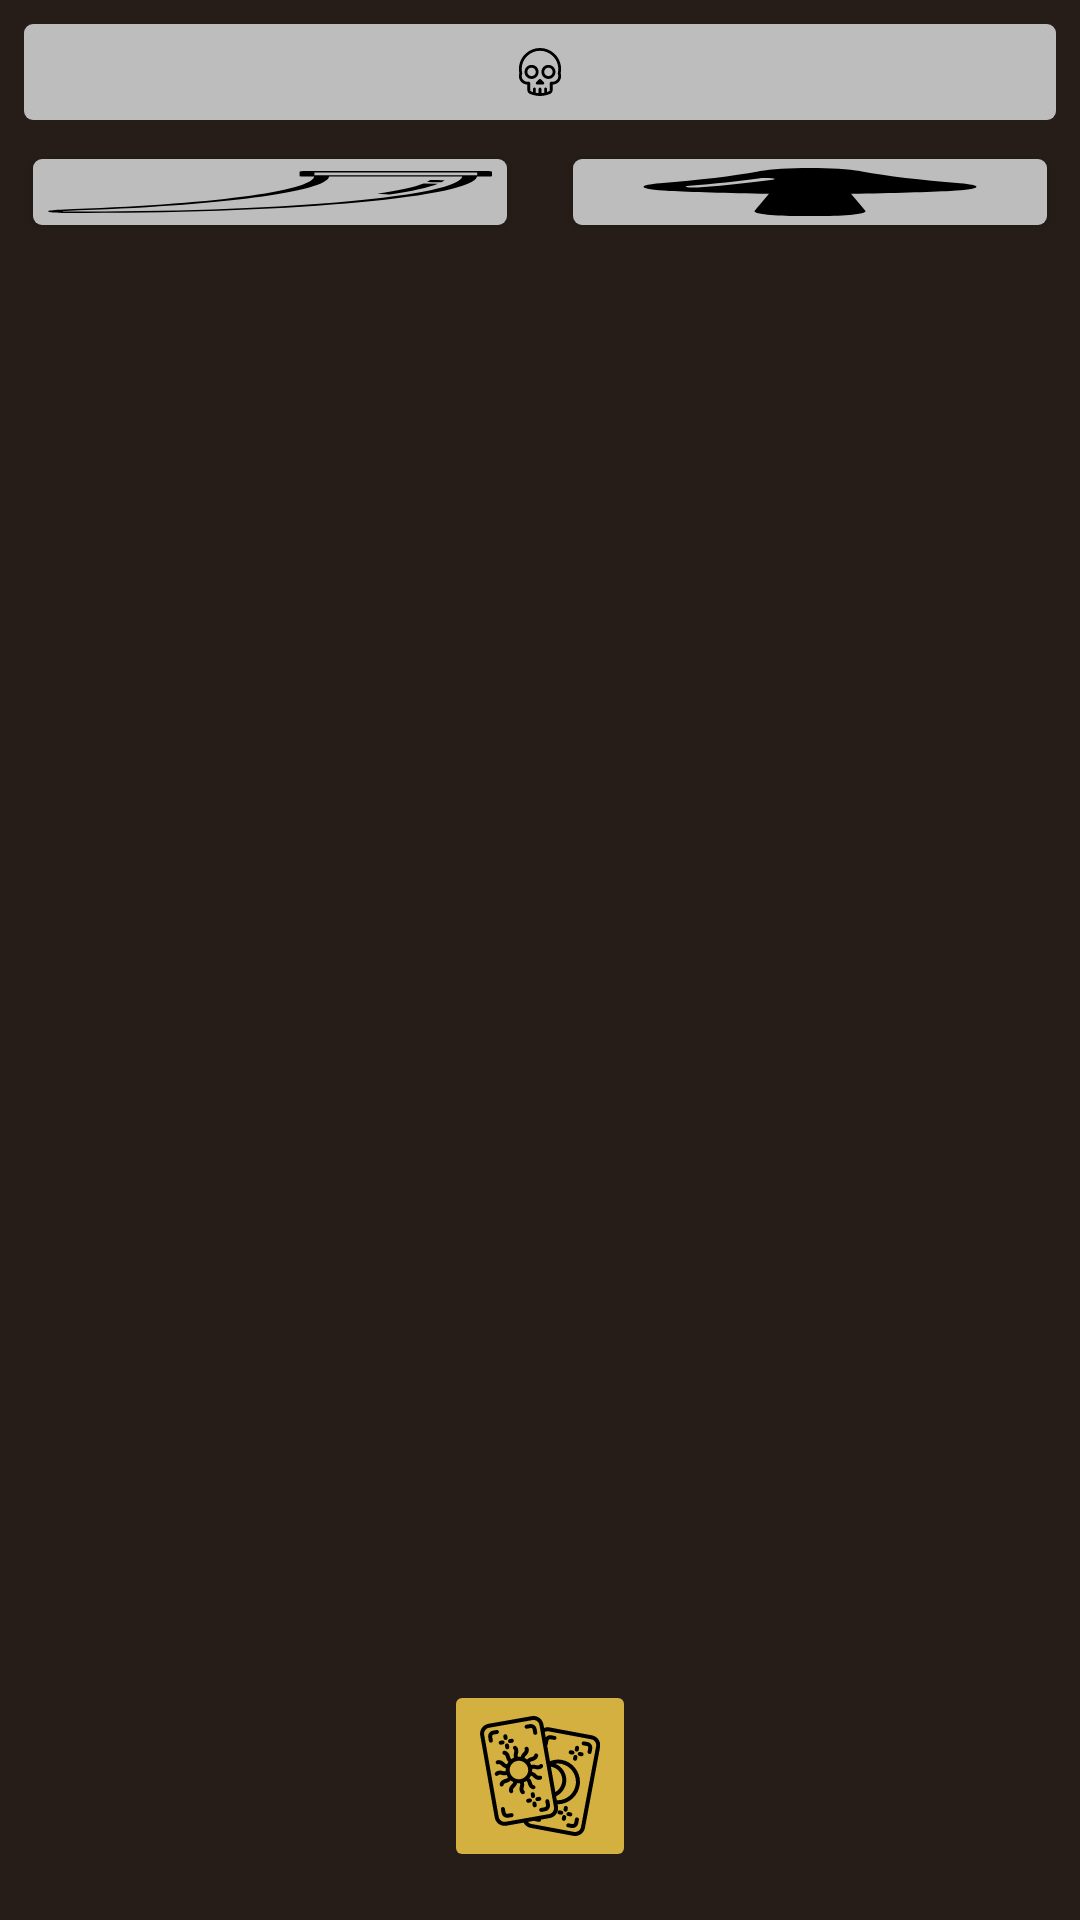

Named icons in this screenshot (1080 x 1920) and their bounding boxes, rect(x1, y1, x2, y2):
deck: rect(456, 1698, 624, 1854)
